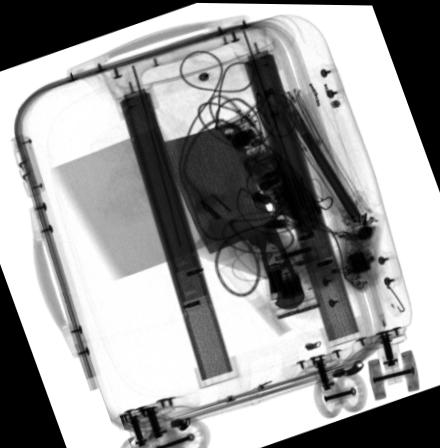Knife: (156, 121, 305, 308)
